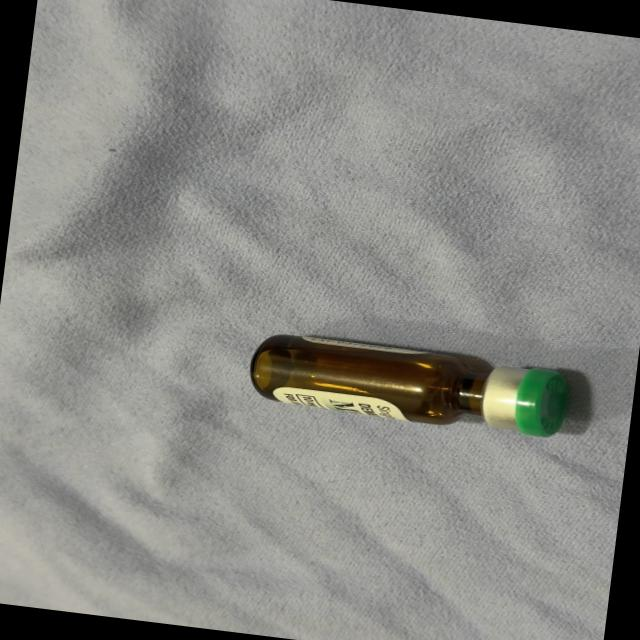midazolm: (252, 330, 566, 438)
